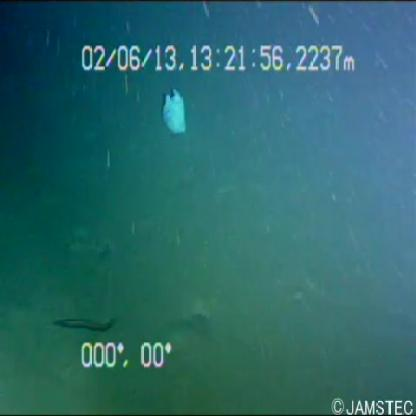Rác: (151, 79, 194, 149)
